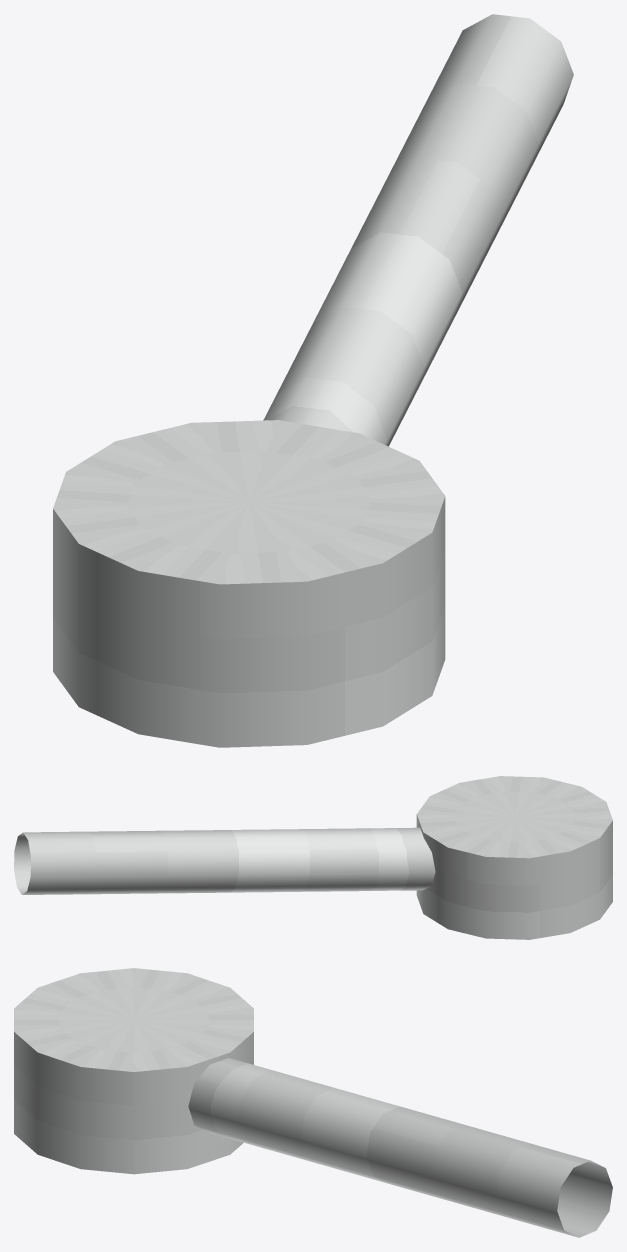
The model's file is trusssignalarm_diagonal8_c1.obj.
3 renders of one model, top to bottom at view 1: azimuth 30°, elevation 25°; view 2: azimuth 150°, elevation 25°; view 3: azimuth 270°, elevation 25°, orthographic. The views are drawn at different scales.
Parts seen in each view (by area): view 1: trusssignalarm_diagonal8_c1; view 2: trusssignalarm_diagonal8_c1; view 3: trusssignalarm_diagonal8_c1.
Part boxes in pixels (x1,y1,x2,y2): trusssignalarm_diagonal8_c1: (53,14,573,747); trusssignalarm_diagonal8_c1: (14,776,612,939); trusssignalarm_diagonal8_c1: (14,968,612,1237).
Size of the model in its own units: 2 by 0.5413 by 1.99.
